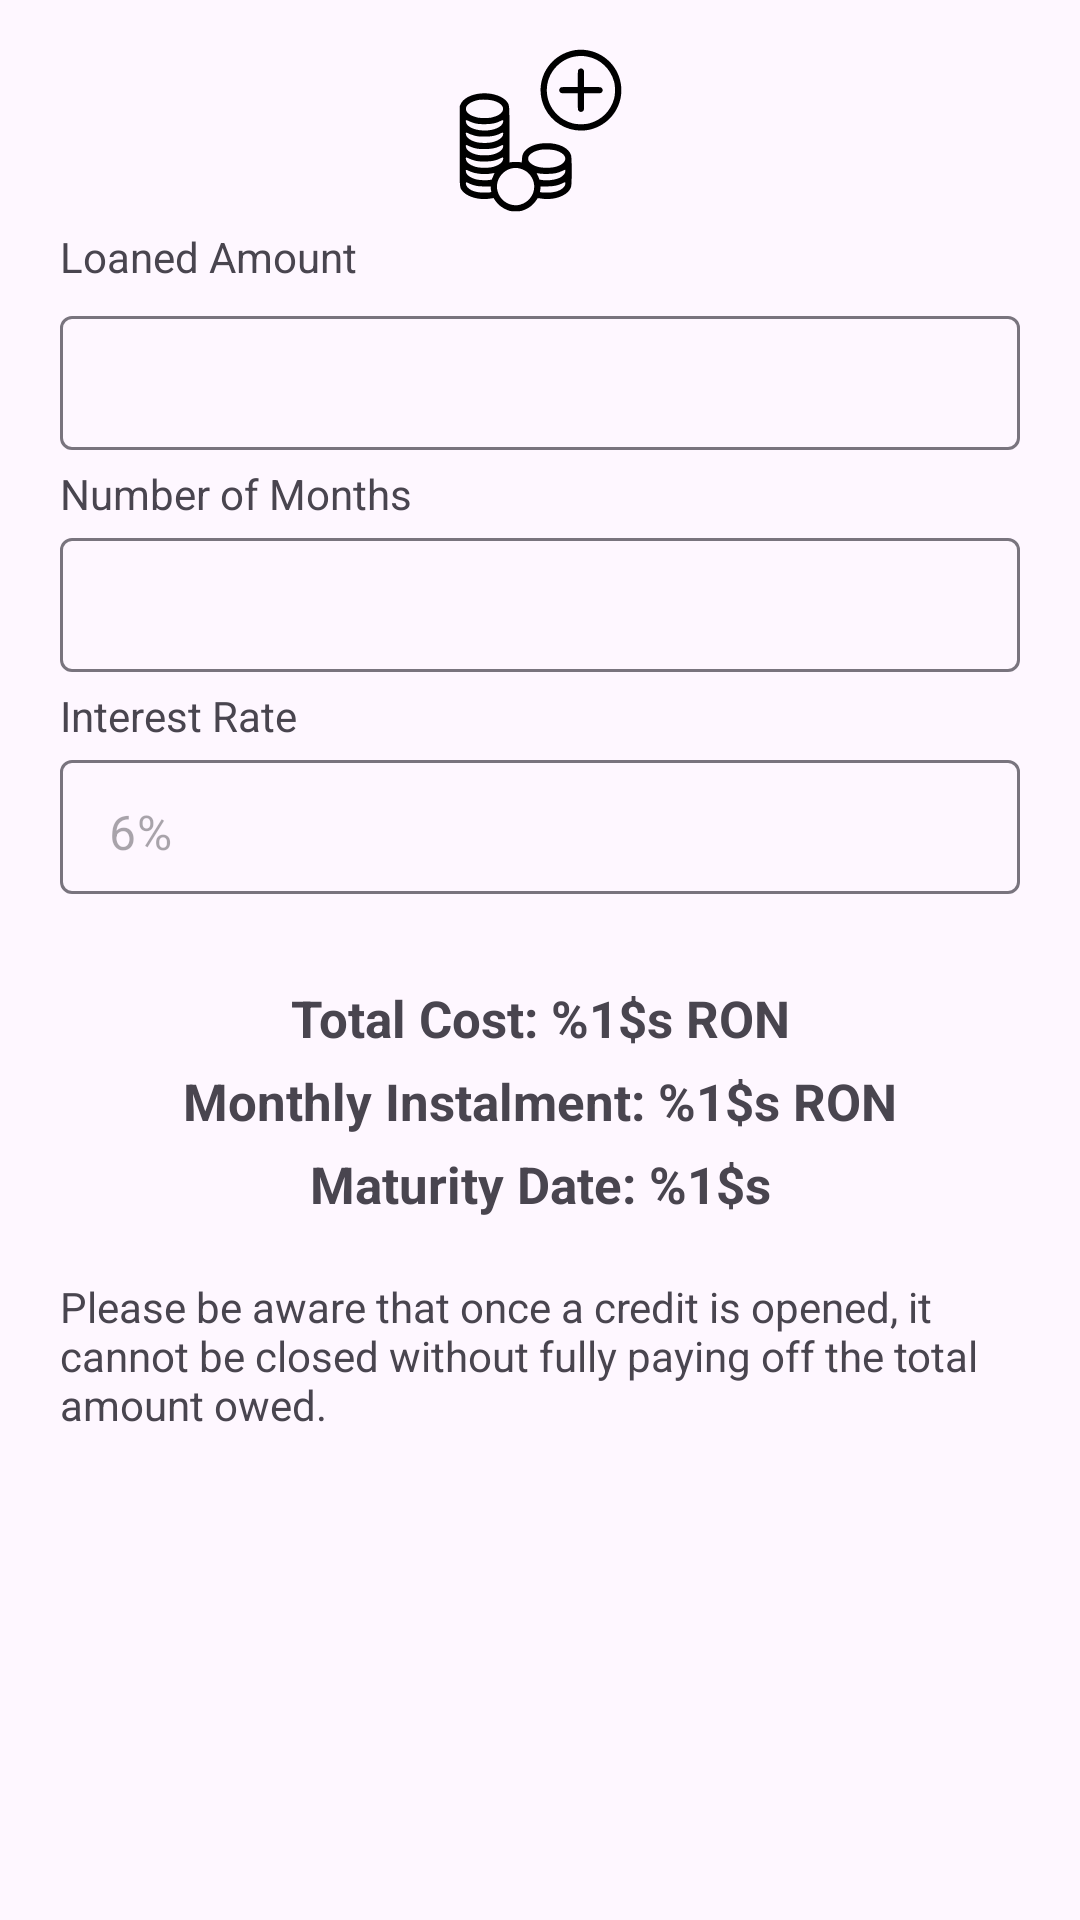

Where to tap for icons on this 1080w x 1920h app screen, as [x,y]:
credit: [540,130]
